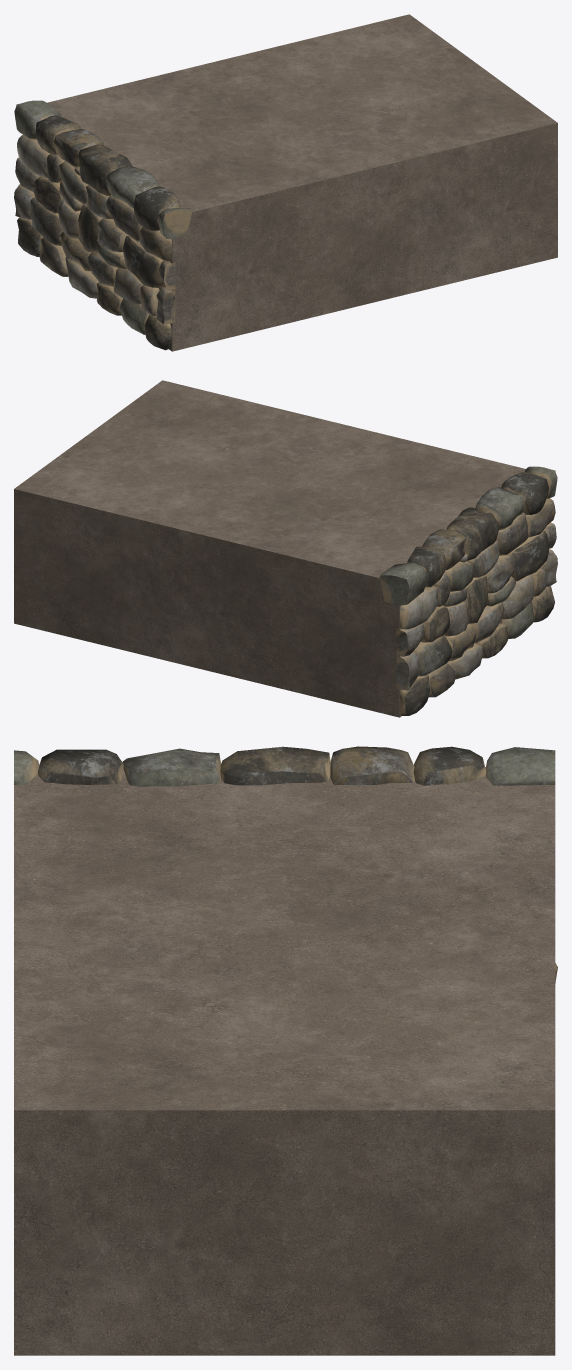
The model's file is SM_Gidan02b.fbx.
The picture shows the model from 3 angles, top to bottom: view 1: azimuth 30°, elevation 25°; view 2: azimuth 150°, elevation 25°; view 3: azimuth 270°, elevation 25°; orthographic projection. The views are drawn at different scales.
Visible parts, largest first — view 1: SM_Gidan02b; view 2: SM_Gidan02b; view 3: SM_Gidan02b.
Boxes of the visible parts, x1,y1,x2,y2 form: SM_Gidan02b: (14, 14, 557, 351); SM_Gidan02b: (14, 380, 557, 717); SM_Gidan02b: (14, 746, 557, 1355).
Size of the model in its own units: 310 by 201 by 107.
2 materials, 2 textured.
